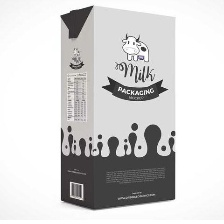carton: (54, 2, 180, 211)
